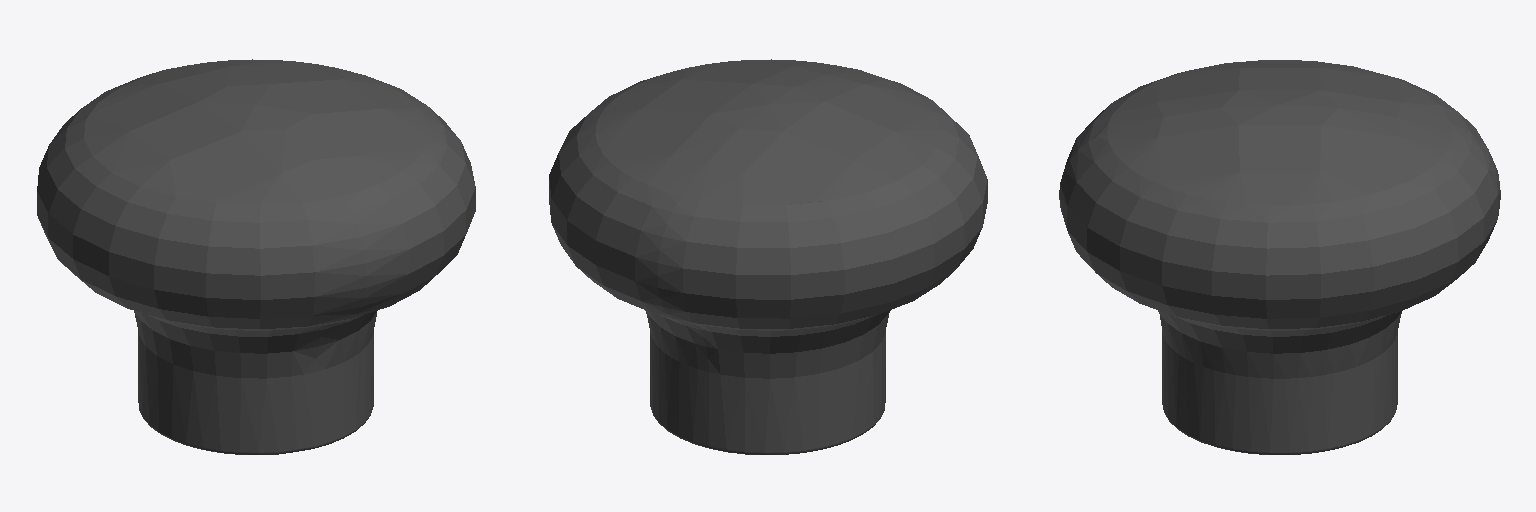
Rendered from ganter_gn_77-45-m10.obj.
3 renders of one model, left to right at view 1: azimuth 30°, elevation 25°; view 2: azimuth 150°, elevation 25°; view 3: azimuth 270°, elevation 25°, orthographic.
Parts seen in each view (by area): view 1: ganter_gn_77-45-m10_1; view 2: ganter_gn_77-45-m10_1; view 3: ganter_gn_77-45-m10_1.
Part boxes in pixels (x1,y1,x2,y2): ganter_gn_77-45-m10_1: (37, 59, 475, 454); ganter_gn_77-45-m10_1: (549, 59, 987, 454); ganter_gn_77-45-m10_1: (1059, 60, 1500, 454).
Size of the model in its own units: 44.66 by 34 by 45.